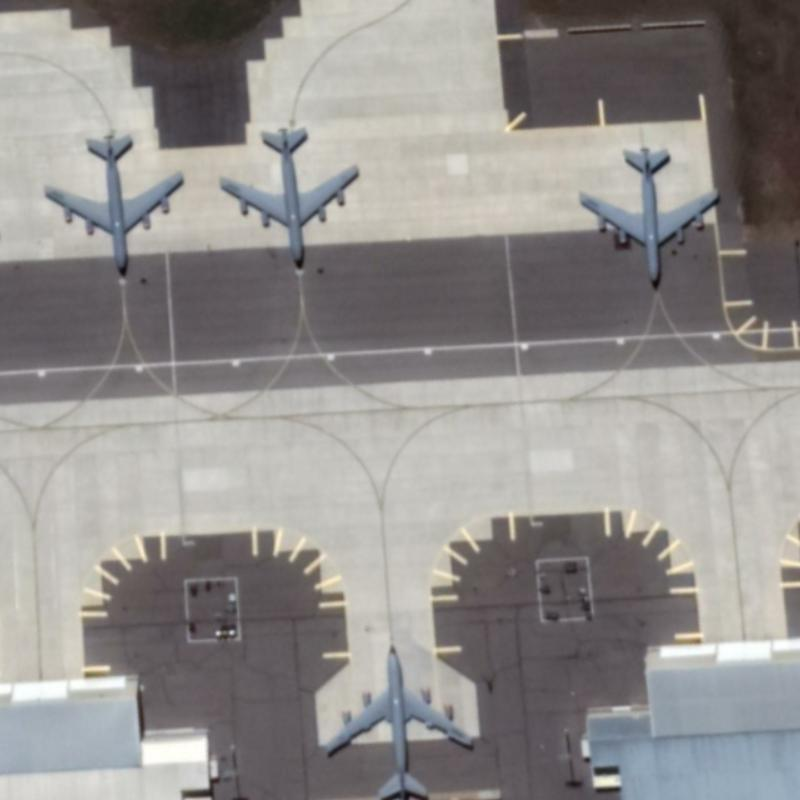A14: (314, 632, 492, 799), (38, 123, 204, 284), (574, 131, 731, 299), (214, 117, 368, 277)
